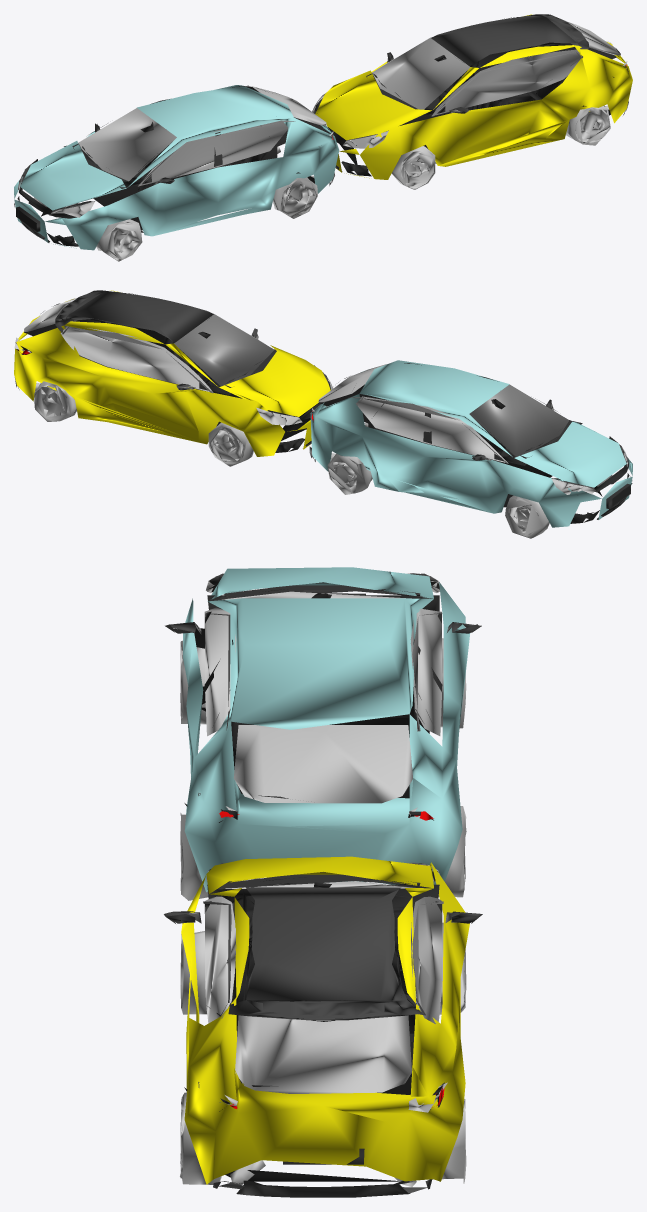
File: vehicle-auto.glb
3 renders of one model, top to bottom at view 1: azimuth 30°, elevation 25°; view 2: azimuth 150°, elevation 25°; view 3: azimuth 270°, elevation 25°, orthographic. The views are drawn at different scales.
Size of the model in its own units: 859 by 141 by 202.
